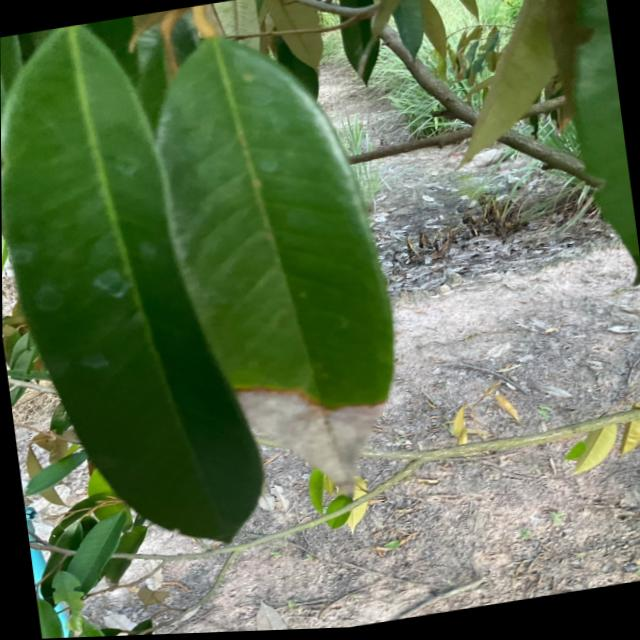Leaf Blight: (156, 41, 393, 500)
